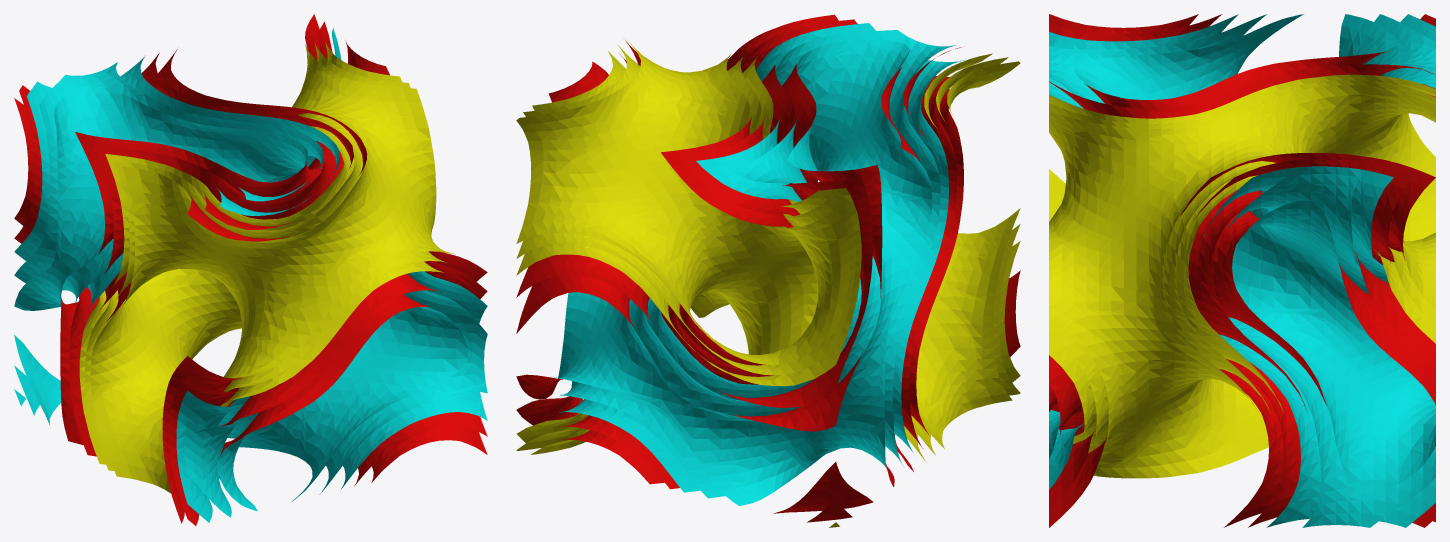
The model's file is gyroid_chiAB0.4_chiBC1.2_chiAC0.55_fA0.25_fB0.3.glb.
The picture shows the model from 3 angles, left to right: view 1: azimuth 30°, elevation 25°; view 2: azimuth 150°, elevation 25°; view 3: azimuth 270°, elevation 25°; orthographic projection. The views are drawn at different scales.
Parts seen in each view (by area): view 1: iso_0.75_channel_2, iso_0.75_channel_1, iso_0.50_channel_0, iso_0.25_channel_0, iso_0.50_channel_1, iso_0.25_channel_1, iso_0.50_channel_2, iso_0.25_channel_2; view 2: iso_0.75_channel_2, iso_0.75_channel_1, iso_0.50_channel_0, iso_0.25_channel_0, iso_0.50_channel_1, iso_0.25_channel_1, iso_0.50_channel_2, iso_0.25_channel_2; view 3: iso_0.75_channel_2, iso_0.75_channel_1, iso_0.50_channel_0, iso_0.50_channel_1, iso_0.25_channel_0, iso_0.25_channel_1, iso_0.50_channel_2, iso_0.25_channel_2.
Boxes of the visible parts, bbox=[...] form: iso_0.75_channel_2: bbox=[90, 44, 455, 493]; iso_0.75_channel_1: bbox=[14, 85, 467, 510]; iso_0.50_channel_0: bbox=[14, 21, 487, 525]; iso_0.25_channel_0: bbox=[14, 14, 487, 523]; iso_0.50_channel_1: bbox=[14, 47, 487, 517]; iso_0.25_channel_1: bbox=[14, 28, 487, 522]; iso_0.50_channel_2: bbox=[85, 43, 446, 470]; iso_0.25_channel_2: bbox=[79, 41, 443, 464]; iso_0.75_channel_2: bbox=[516, 40, 1020, 454]; iso_0.75_channel_1: bbox=[551, 39, 932, 505]; iso_0.50_channel_0: bbox=[516, 19, 1020, 522]; iso_0.25_channel_0: bbox=[516, 14, 963, 513]; iso_0.50_channel_1: bbox=[560, 30, 956, 498]; iso_0.25_channel_1: bbox=[559, 23, 965, 492]; iso_0.50_channel_2: bbox=[516, 45, 1020, 455]; iso_0.25_channel_2: bbox=[516, 51, 1020, 527]; iso_0.75_channel_2: bbox=[1049, 85, 1435, 478]; iso_0.75_channel_1: bbox=[1074, 14, 1435, 493]; iso_0.50_channel_0: bbox=[1049, 14, 1435, 527]; iso_0.50_channel_1: bbox=[1049, 14, 1435, 527]; iso_0.25_channel_0: bbox=[1049, 14, 1435, 527]; iso_0.25_channel_1: bbox=[1049, 14, 1435, 527]; iso_0.50_channel_2: bbox=[1049, 80, 1435, 453]; iso_0.25_channel_2: bbox=[1049, 74, 1435, 445].
Size of the model in its own units: 31 by 31 by 31.
